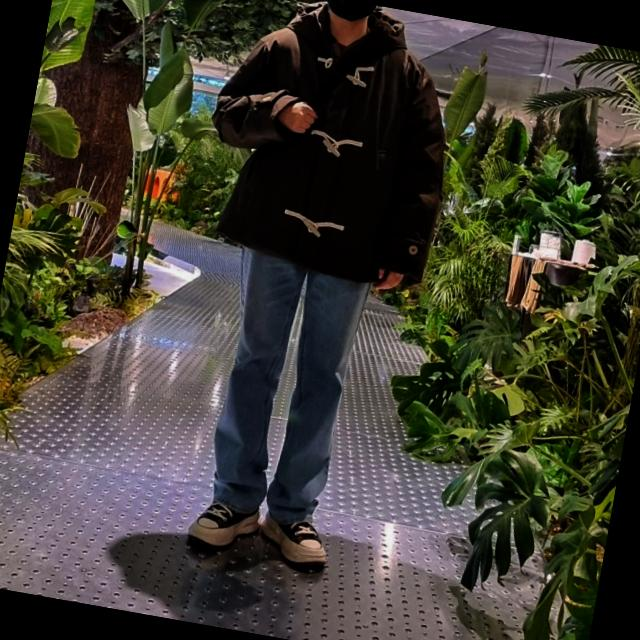denimpants: (194, 236, 372, 534)
padding: (188, 0, 471, 296)
